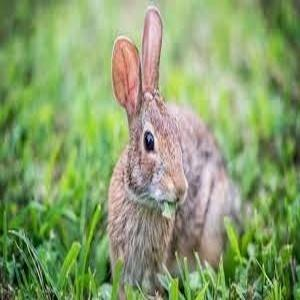rabbit: (107, 7, 243, 299)
